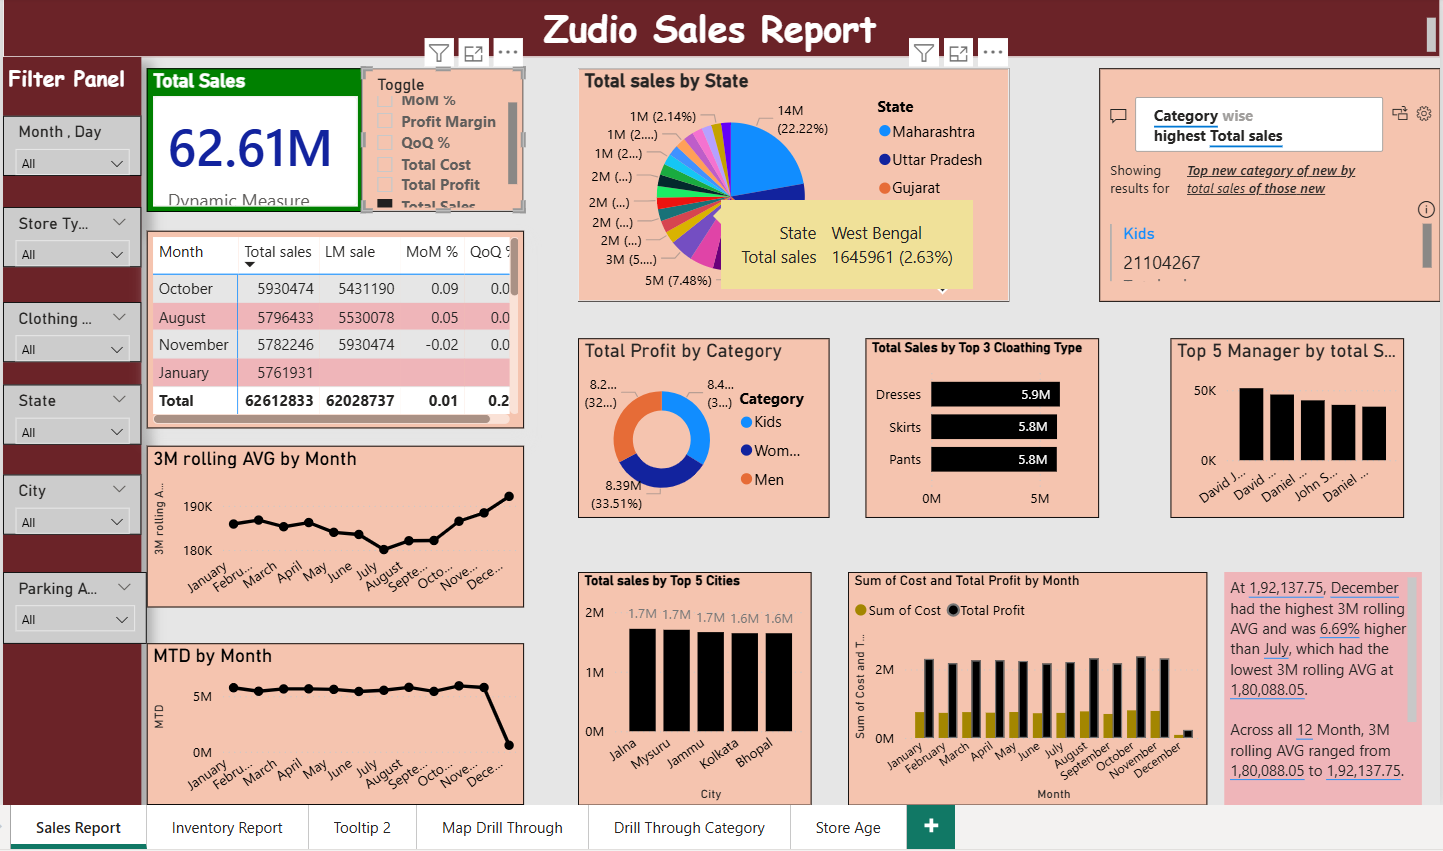

This screenshot's page, from the dashboard's own definition file:
{"tool":"powerbi","page":{"name":"Sales Report ","canvas":[1280,720],"ordinal":0},"visuals":[{"type":"textbox","box":[0,0,1280,53.5],"z":0},{"type":"textbox","box":[0,53.3,123.6,666.7],"z":1000},{"type":"slicer","fields":{"Values":["MeasureToggle.Toggle"]},"box":[320,64,144,128],"z":2000},{"type":"pivotTable","fields":{"Values":["New.Total sales","New.LM sale","New.MoM %","New.QoQ %"],"Rows":["DateTable.Date.Variation.Date Hierarchy.Month"]},"box":[128,208,336,176],"z":3000},{"type":"cardVisual","fields":{"Data":["MeasureToggle.Dynamic Measure"]},"box":[128,64,192,128],"z":4000},{"type":"slicer","fields":{"Values":["DateTable.Month ","DateTable.Date.Variation.Date Hierarchy.Day"]},"box":[0,105.8,123.6,53.3],"z":5000},{"type":"lineChart","fields":{"Y":["New.3M rolling AVG"],"Category":["DateTable.Date.Variation.Date Hierarchy.Month"]},"box":[128,400,336,144],"z":6000},{"type":"pieChart","fields":{"Category":["New.State"],"Y":["New.Total sales"]},"box":[512,64,384,208],"z":7000},{"type":"qnaVisual","box":[976,64,304,208],"z":8000},{"type":"slicer","fields":{"Values":["New.Store Type"]},"box":[0,186.7,123.6,53.3],"z":9000},{"type":"slicer","fields":{"Values":["New.Clothing Type"]},"box":[0,271.1,123.6,53.3],"z":10000},{"type":"slicer","fields":{"Values":["New.State"]},"box":[0,344.9,123.6,53.3],"z":11000},{"type":"slicer","fields":{"Values":["New.City"]},"box":[0,424.9,123.6,53.3],"z":12000},{"type":"slicer","fields":{"Values":["New.Parking Availability"]},"box":[0,512,128,64],"z":13000},{"type":"columnChart","title":"Total sales by Top 5 Cities","fields":{"Category":["New.City"],"Y":["New.Total sales"]},"box":[512,512,208,208],"z":14000},{"type":"donutChart","fields":{"Y":["New.Total Profit"],"Category":["New.Category"]},"box":[512,304,224,160],"z":15000},{"type":"clusteredColumnChart","fields":{"Y":["Sum(New.Cost)","New.Total Profit"],"Category":["DateTable.Date.Variation.Date Hierarchy.Month"]},"box":[752,512,320,208],"z":16000},{"type":"lineChart","fields":{"Category":["DateTable.Date.Variation.Date Hierarchy.Month","DateTable.Date.Variation.Date Hierarchy.Day"],"Y":["New.MTD"]},"box":[128,576,336,144],"z":17000},{"type":"barChart","title":"Total Sales by Top 3 Cloathing Type","fields":{"Category":["New.Clothing Type"],"Y":["New.Total sales"]},"box":[768,304,208,160],"z":18000},{"type":"textbox","box":[1088,512,176,208],"z":19000},{"type":"columnChart","title":"Top 5 Manager by total Sales","fields":{"Category":["New.Store Manager"],"Y":["New.Total sales"]},"box":[1040,304,208,160],"z":20000}]}

Visuals, with their boxes on the page's 1280x720 design canvas (x1, y1, x2, y2). These are canvas units, not pixel positions in the 1443x851 screenshot, which may show the page scaled, cropped or inside an application window:
textbox: bbox(0, 0, 1280, 54)
textbox: bbox(0, 53, 124, 720)
slicer - MeasureToggle.Toggle: bbox(320, 64, 464, 192)
pivotTable - New.Total sales x New.LM sale: bbox(128, 208, 464, 384)
cardVisual - MeasureToggle.Dynamic Measure: bbox(128, 64, 320, 192)
slicer - DateTable.Month  x DateTable.Date.Variation.Date Hierarchy.Day: bbox(0, 106, 124, 159)
lineChart - New.3M rolling AVG x DateTable.Date.Variation.Date Hierarchy.Month: bbox(128, 400, 464, 544)
pieChart - New.State x New.Total sales: bbox(512, 64, 896, 272)
qnaVisual: bbox(976, 64, 1280, 272)
slicer - New.Store Type: bbox(0, 187, 124, 240)
slicer - New.Clothing Type: bbox(0, 271, 124, 324)
slicer - New.State: bbox(0, 345, 124, 398)
slicer - New.City: bbox(0, 425, 124, 478)
slicer - New.Parking Availability: bbox(0, 512, 128, 576)
"Total sales by Top 5 Cities" columnChart: bbox(512, 512, 720, 720)
donutChart - New.Total Profit x New.Category: bbox(512, 304, 736, 464)
clusteredColumnChart - Sum(New.Cost) x New.Total Profit: bbox(752, 512, 1072, 720)
lineChart - DateTable.Date.Variation.Date Hierarchy.Month x DateTable.Date.Variation.Date Hierarchy.Day: bbox(128, 576, 464, 720)
"Total Sales by Top 3 Cloathing Type" barChart: bbox(768, 304, 976, 464)
textbox: bbox(1088, 512, 1264, 720)
"Top 5 Manager by total Sales" columnChart: bbox(1040, 304, 1248, 464)
